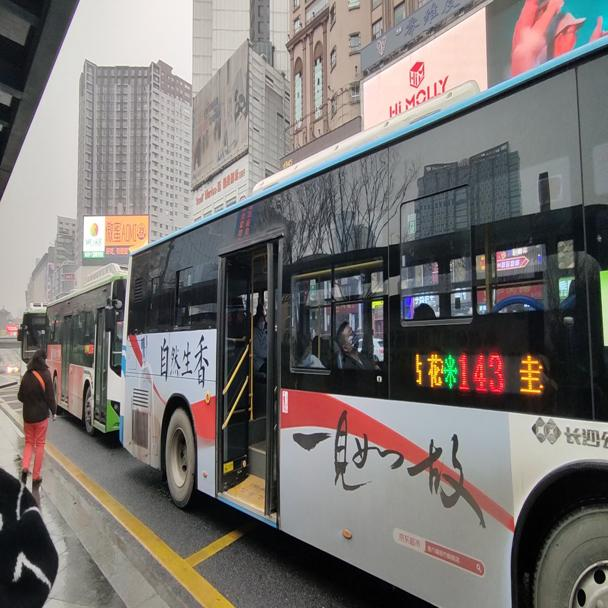bus: (117, 55, 606, 606), (46, 264, 125, 433), (16, 305, 46, 380)
screen: (458, 353, 503, 395)
